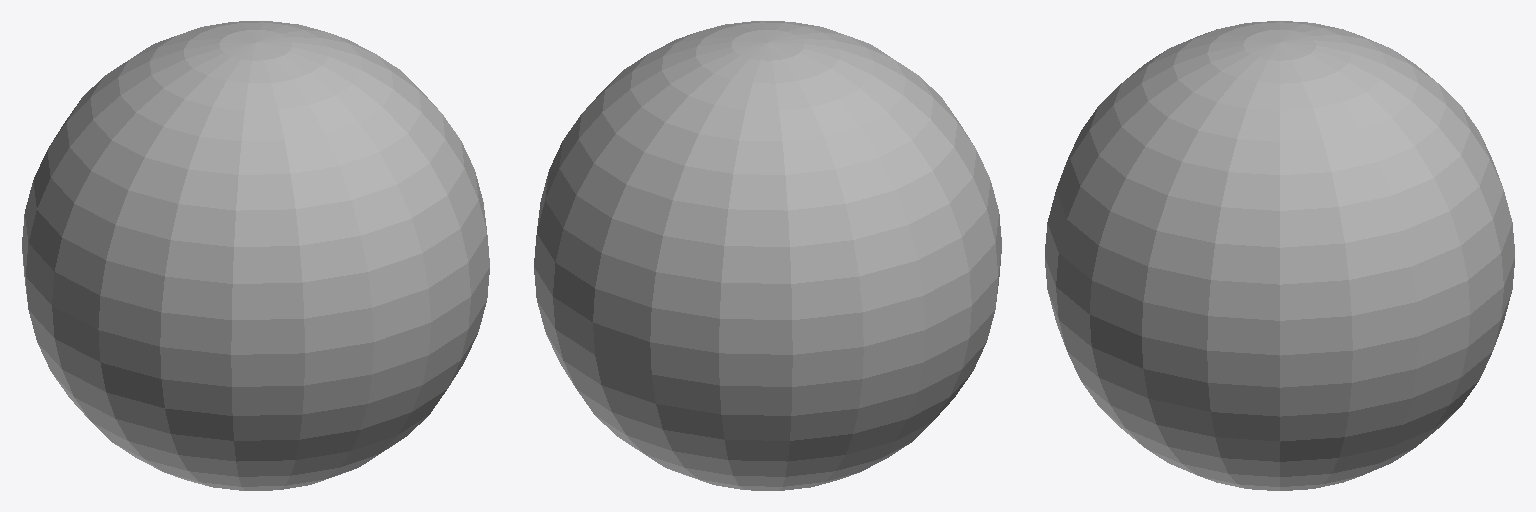
The model's file is earth.obj.
The picture shows the model from 3 angles: view 1: azimuth 30°, elevation 25°; view 2: azimuth 150°, elevation 25°; view 3: azimuth 270°, elevation 25°; orthographic projection.
Visible parts, largest first — view 1: pSphere1; view 2: pSphere1; view 3: pSphere1.
Boxes of the visible parts, x1,y1,x2,y2 form: pSphere1: [22, 21, 489, 490]; pSphere1: [534, 21, 1001, 490]; pSphere1: [1045, 21, 1514, 490].
Size of the model in its own units: 2 by 2 by 2.